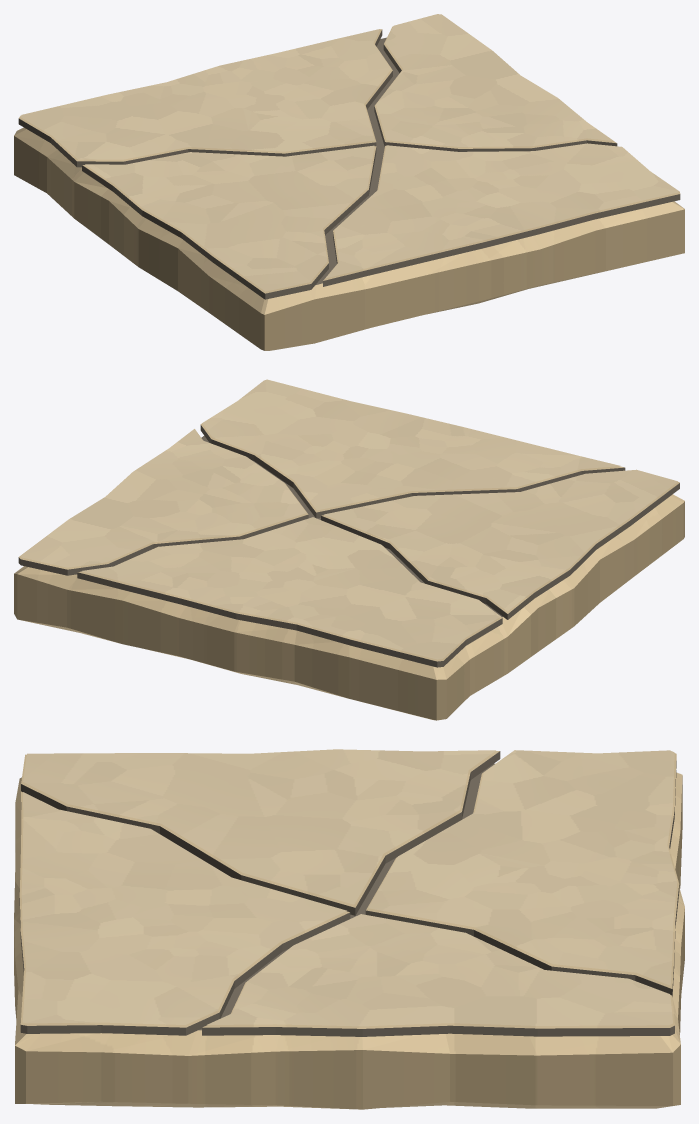
The model's file is tile_b_cracked.glb.
3 views of the same model, one above another, from view 1: azimuth 30°, elevation 25°; view 2: azimuth 150°, elevation 25°; view 3: azimuth 270°, elevation 25° (orthographic). The views are drawn at different scales.
Visible parts, largest first — view 1: tile_b_cracked; view 2: tile_b_cracked; view 3: tile_b_cracked.
Boxes of the visible parts, x1,y1,x2,y2 form: tile_b_cracked: [14, 14, 684, 350]; tile_b_cracked: [14, 379, 684, 720]; tile_b_cracked: [14, 749, 684, 1109].
Bounding box in the file's own units: 2.8 × 0.4 × 2.8.
Materials: 4 (3 with a texture image).
